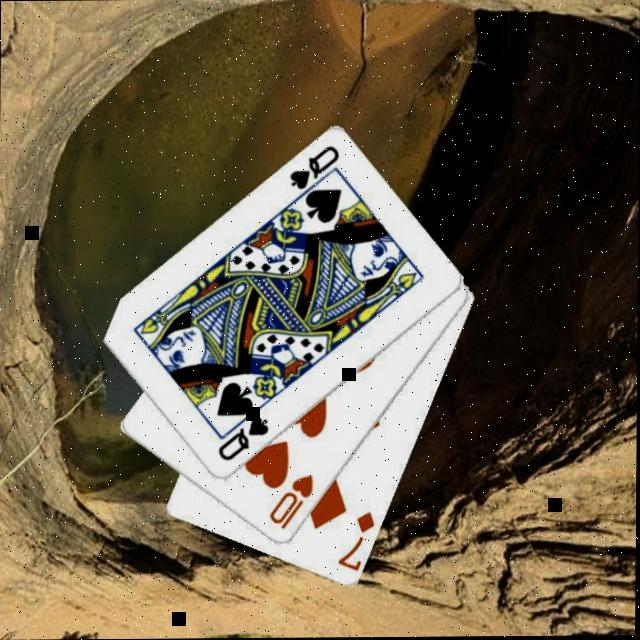10H: (267, 473, 317, 533)
7D: (336, 510, 379, 574)
QS: (216, 415, 272, 465), (288, 144, 344, 194)
